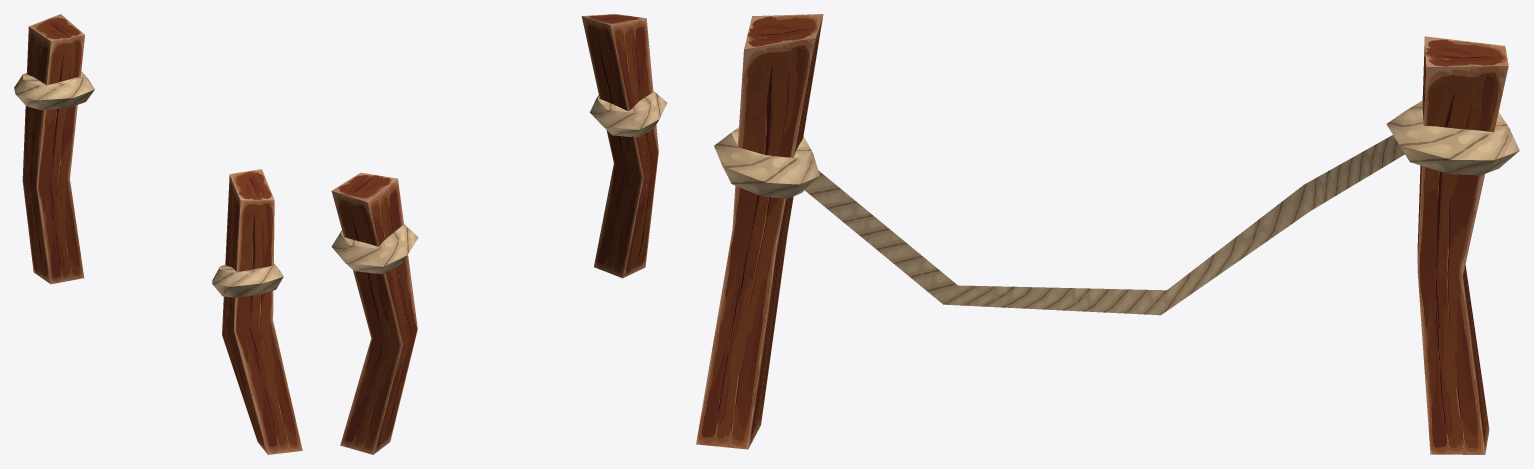
The model's file is barriere-ficelle-double-2.glb.
The picture shows the model from 3 angles, left to right: view 1: azimuth 30°, elevation 25°; view 2: azimuth 150°, elevation 25°; view 3: azimuth 270°, elevation 25°; orthographic projection. The views are drawn at different scales.
Parts seen in each view (by area): view 1: SM_PROP_railing_v03_02; view 2: SM_PROP_railing_v03_02; view 3: SM_PROP_railing_v03_02.
Part boxes in pixels (x1=…): SM_PROP_railing_v03_02: x1=14, y1=14, x2=302, y2=454; SM_PROP_railing_v03_02: x1=331, y1=14, x2=667, y2=454; SM_PROP_railing_v03_02: x1=696, y1=14, x2=1519, y2=454.
Size of the model in its own units: 0.3698 by 1.01 by 1.87.
2 materials, 2 textured.
